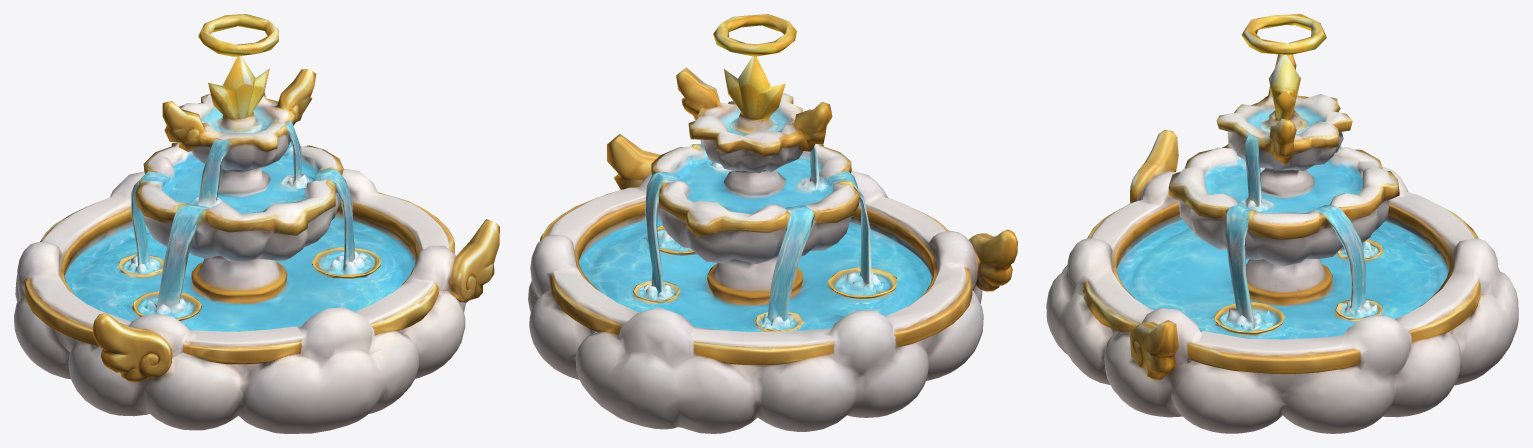
The model's file is Town_Halo_Fountain_HD_retex2d.glb.
3 views of the same model, side by side, from view 1: azimuth 30°, elevation 25°; view 2: azimuth 150°, elevation 25°; view 3: azimuth 270°, elevation 25° (orthographic).
Parts seen in each view (by area): view 1: tripo_node_c16dca90-9423-4372-9138-bc8ca7f3ddfd; view 2: tripo_node_c16dca90-9423-4372-9138-bc8ca7f3ddfd; view 3: tripo_node_c16dca90-9423-4372-9138-bc8ca7f3ddfd.
Boxes of the visible parts, box(x1,y1,x2,y2) form: tripo_node_c16dca90-9423-4372-9138-bc8ca7f3ddfd: box(14, 14, 499, 433); tripo_node_c16dca90-9423-4372-9138-bc8ca7f3ddfd: box(528, 14, 1017, 433); tripo_node_c16dca90-9423-4372-9138-bc8ca7f3ddfd: box(1046, 14, 1518, 433).
Size of the model in its own units: 0.983 by 0.763 by 0.9778.
Materials: 1 (1 with a texture image).
